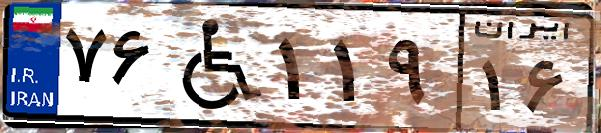1: (270, 28, 330, 110), (330, 28, 385, 110), (475, 38, 525, 113)
6: (525, 38, 570, 115), (110, 28, 158, 98)
7: (57, 26, 110, 100)
9: (385, 28, 445, 110)
ژ (معلولین و جانبازان): (158, 12, 270, 120)
